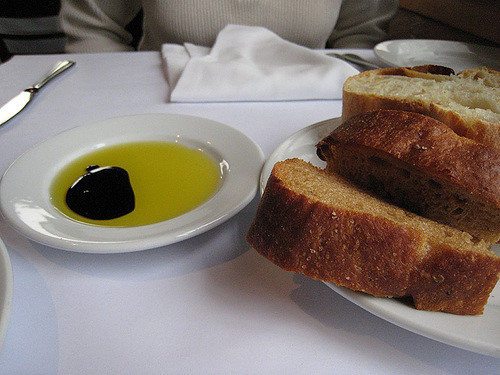slice of bread: (261, 153, 491, 292)
